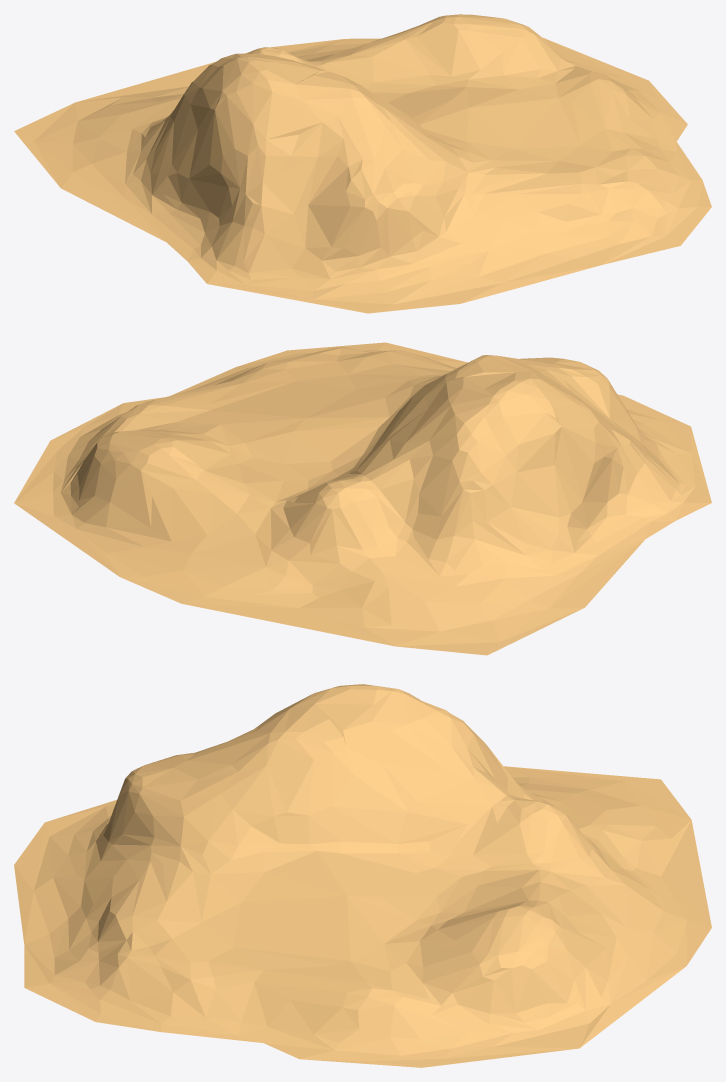
The model's file is Terrain 08.FBX.
3 renders of one model, top to bottom at view 1: azimuth 30°, elevation 25°; view 2: azimuth 150°, elevation 25°; view 3: azimuth 270°, elevation 25°, orthographic. The views are drawn at different scales.
Parts seen in each view (by area): view 1: plane; view 2: plane; view 3: plane.
Part boxes in pixels (x1,y1,x2,y2): plane: (14, 14, 711, 313); plane: (14, 342, 711, 655); plane: (14, 684, 711, 1067).
Size of the model in its own units: 103 by 24.32 by 101.
